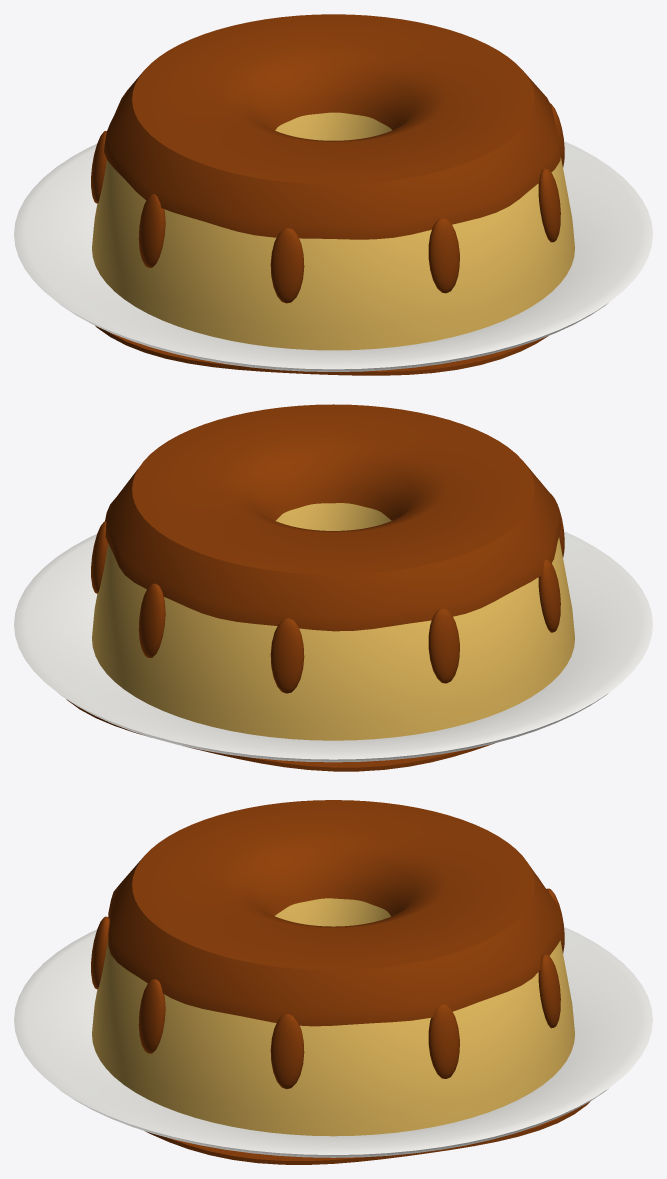
File: pudim_de_leite.glb
The picture shows the model from 3 angles, top to bottom: view 1: azimuth 30°, elevation 25°; view 2: azimuth 150°, elevation 25°; view 3: azimuth 270°, elevation 25°; orthographic projection.
Parts seen in each view (by area): view 1: pudim_de_leite; view 2: pudim_de_leite; view 3: pudim_de_leite.
Boxes of the visible parts, box(x1,y1,x2,y2) form: pudim_de_leite: box(14, 14, 652, 375); pudim_de_leite: box(14, 404, 652, 771); pudim_de_leite: box(14, 800, 652, 1164).
Size of the model in its own units: 0.224 by 0.0752 by 0.224.
